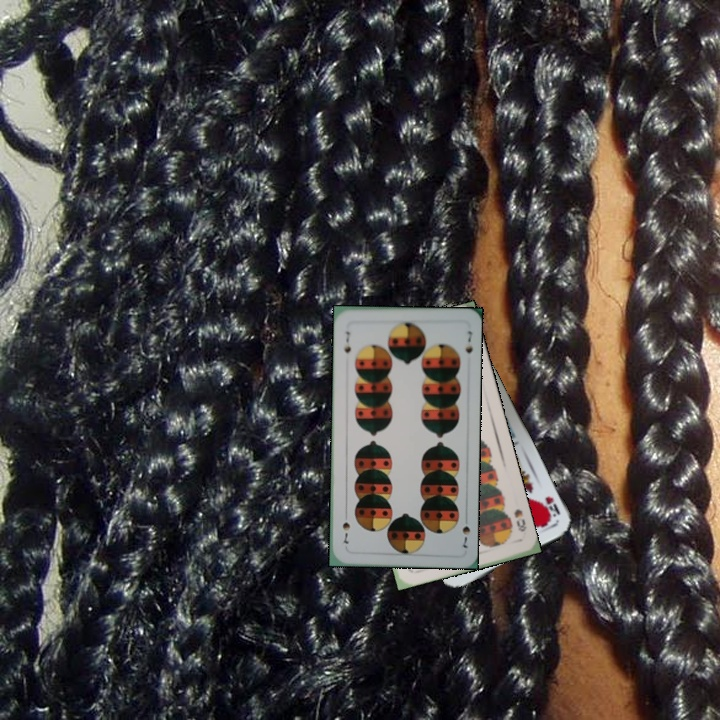HK: (538, 492, 563, 524)
S7: (458, 511, 473, 551), (340, 327, 353, 355)
S8: (510, 505, 529, 534)
